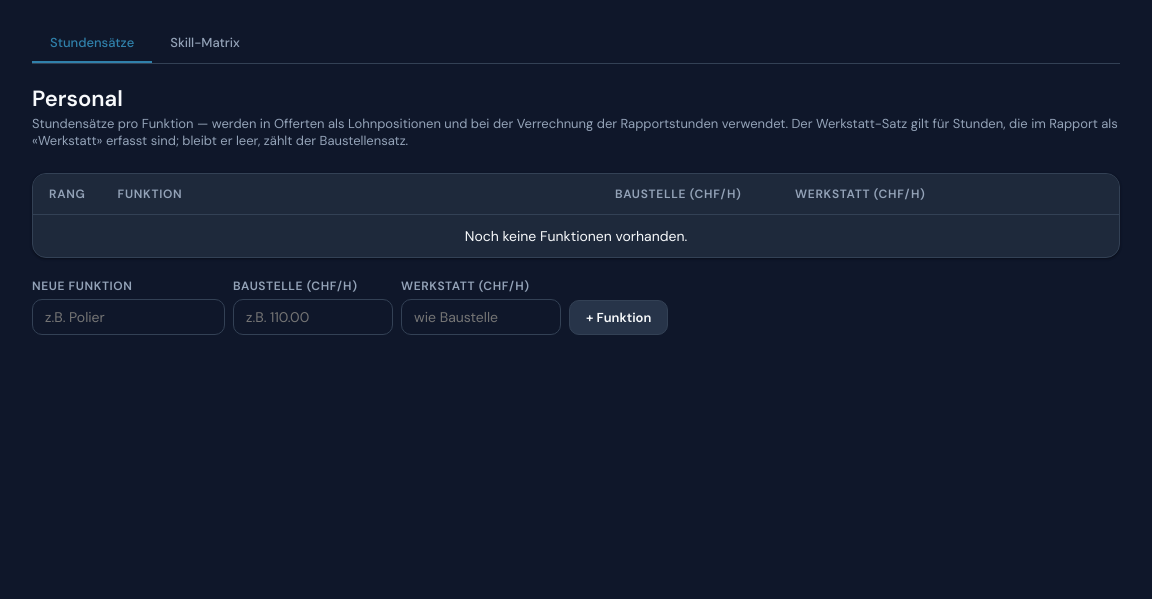
Test: Skill-Matrix › einen Skill anheften speichert für sich
Click the button "Skill-Matrix" at (205, 44), box [152,24,258,63]
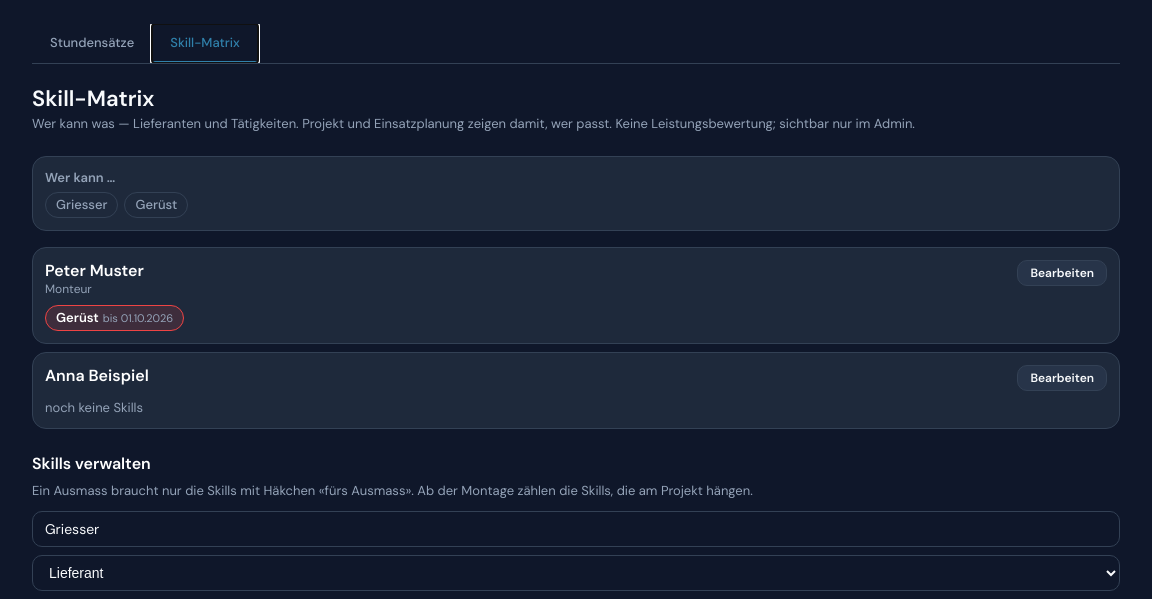
Click the button "Bearbeiten" in the row of "Peter Muster" at (1062, 273), box [1017,260,1107,286]
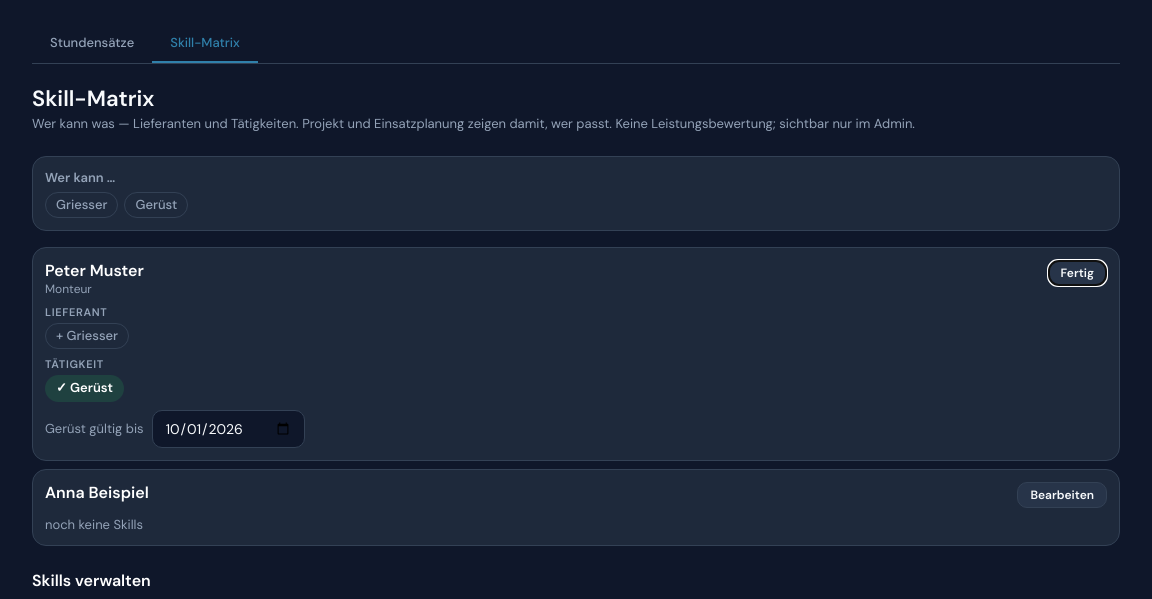
Click the button "+ Griesser" at (87, 336), box [45,323,129,349]
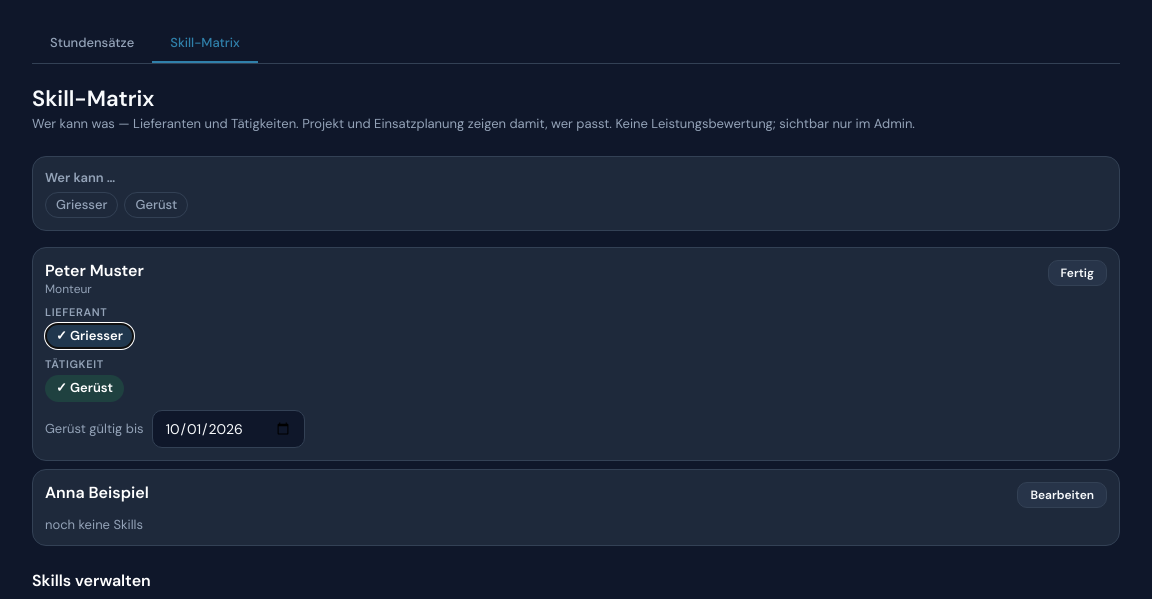
Expected: the button "✓ Griesser" is shown, [45,323,134,349]
